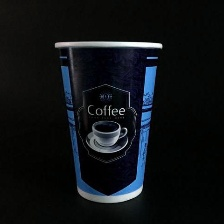paper_cup: (48, 36, 167, 207)
